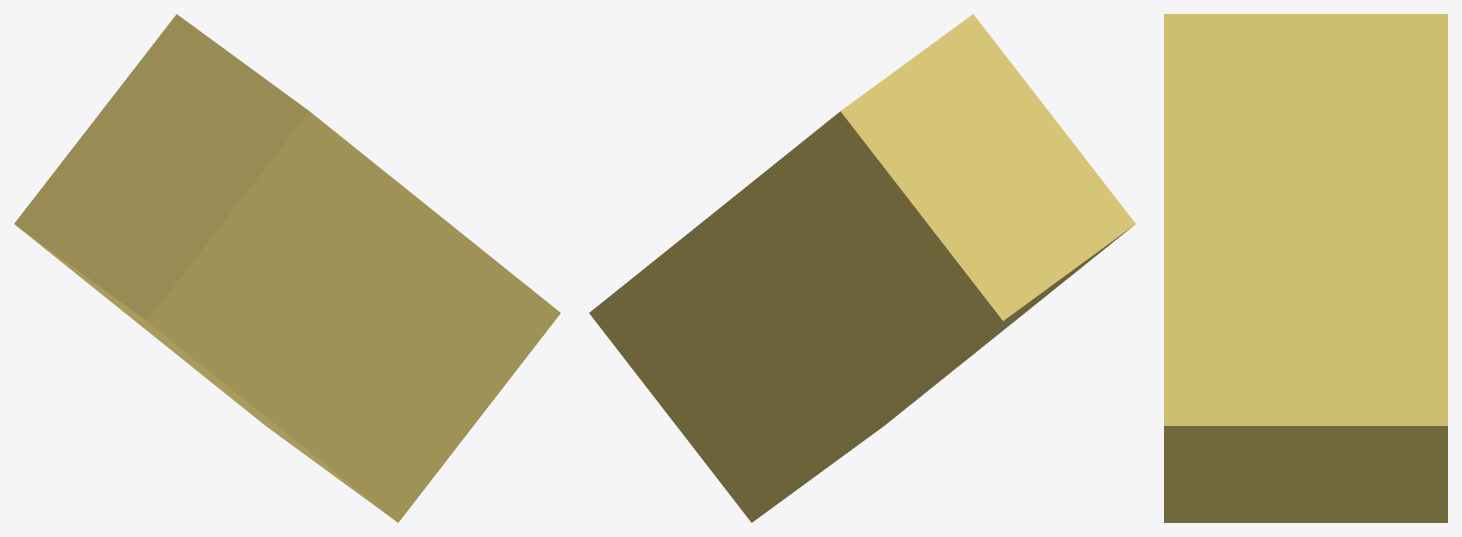
Rendered from B05_COLLECTIBLE_PLACEHOLDER_PROGRAM.glb.
3 views of the same model, side by side, from view 1: azimuth 30°, elevation 25°; view 2: azimuth 150°, elevation 25°; view 3: azimuth 270°, elevation 25° (orthographic). The views are drawn at different scales.
Visible parts, largest first — view 1: Placeholder; view 2: Placeholder; view 3: Placeholder.
Part boxes in pixels (bbox=[...]): Placeholder: bbox=[14, 14, 560, 522]; Placeholder: bbox=[589, 14, 1135, 522]; Placeholder: bbox=[1164, 14, 1447, 522].
Size of the model in its own units: 0.9899 by 0.9899 by 0.55.
